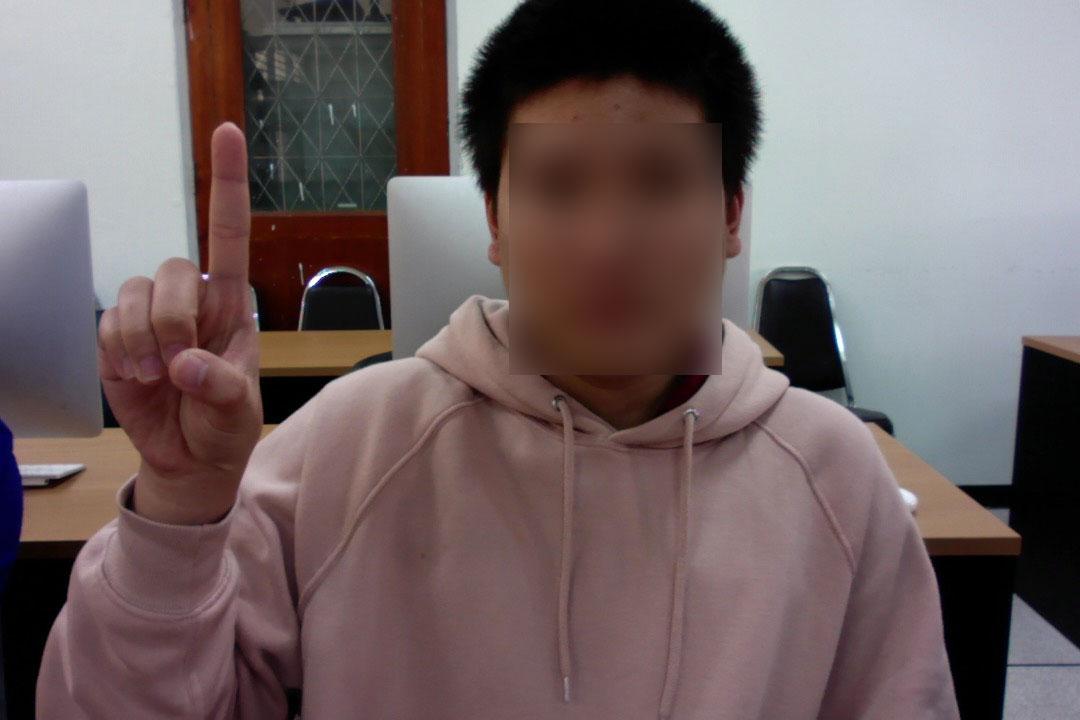dor: (88, 118, 277, 476)
